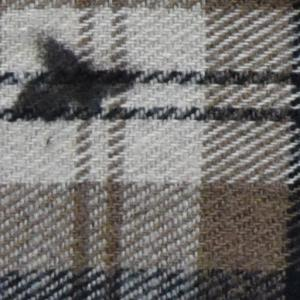Stain: (6, 28, 142, 152)
